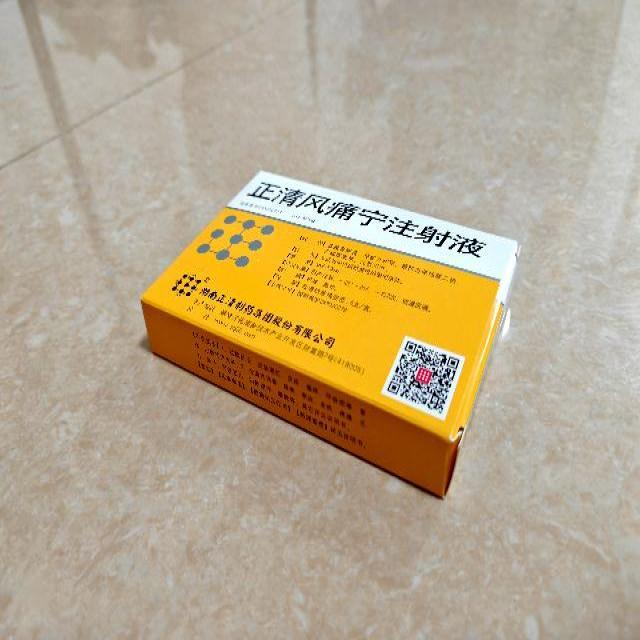box: (140, 168, 520, 498)
